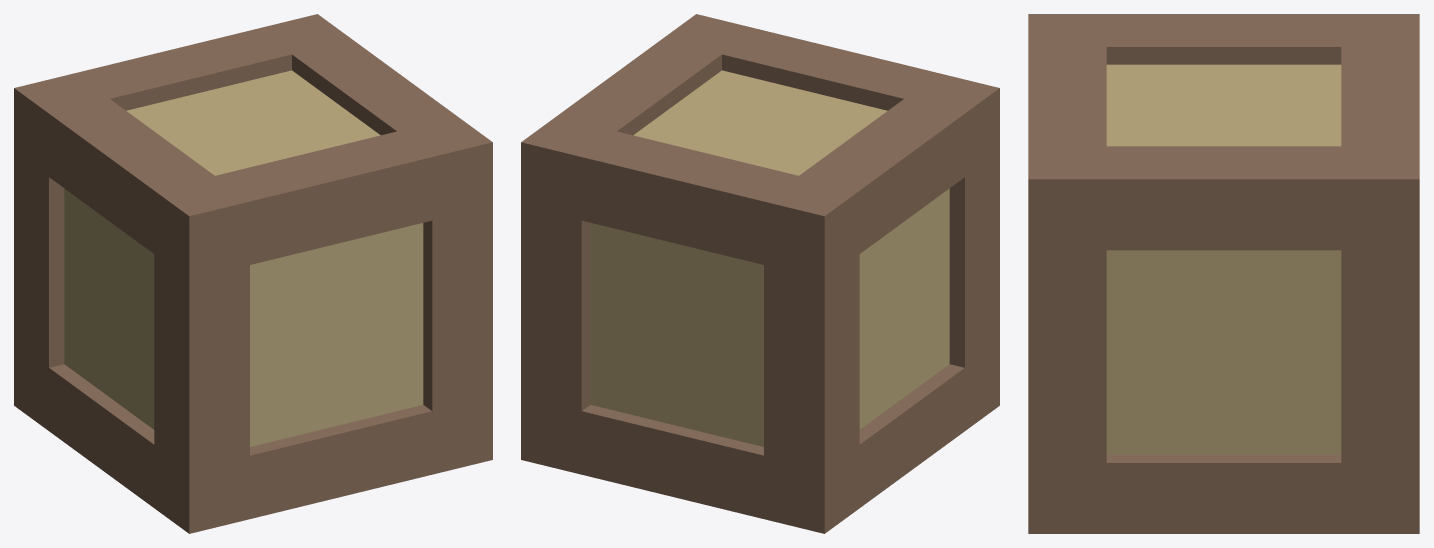
File: crate.dae
3 renders of one model, left to right at view 1: azimuth 30°, elevation 25°; view 2: azimuth 150°, elevation 25°; view 3: azimuth 270°, elevation 25°, orthographic. The views are drawn at different scales.
Parts seen in each view (by area): view 1: mesh; view 2: mesh; view 3: mesh.
Part boxes in pixels (box(x1,y1,x2,y2)): mesh: box(14, 14, 492, 533); mesh: box(521, 14, 999, 533); mesh: box(1028, 14, 1419, 533).
Size of the model in its own units: 1 by 1 by 1.
